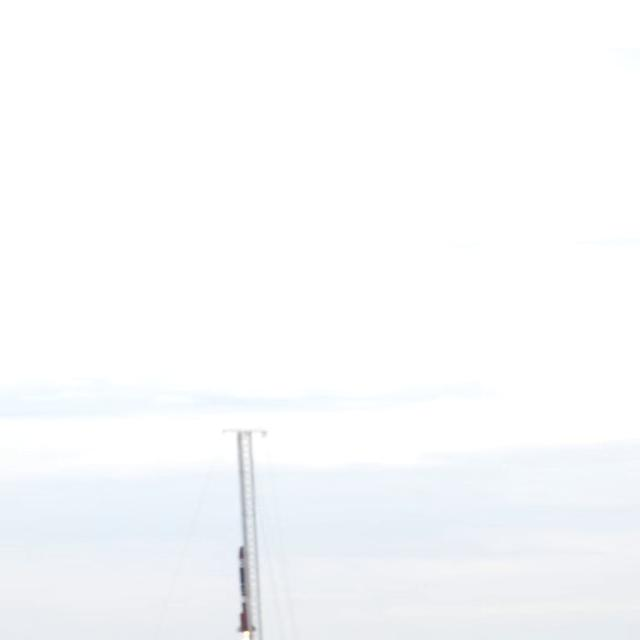Rocket: (237, 546, 257, 633)
